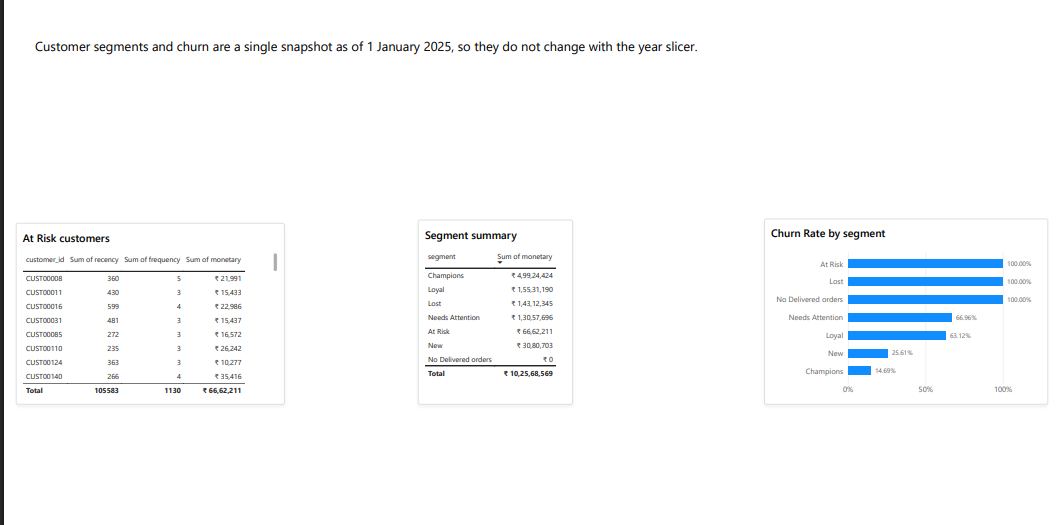

The page's visual inventory and layout, read from the dashboard file:
{"tool":"powerbi","page":{"name":"RFM and Churn","canvas":[1920,1080],"ordinal":2},"visuals":[{"type":"tableEx","title":"Segment summary","fields":{"Values":["rfm_customers.segment","Sum(rfm_customers.monetary)"]},"box":[748,480,288,344],"z":0},{"type":"barChart","title":"Churn Rate by segment","fields":{"Category":["rfm_customers.segment"],"Y":["rfm_customers.Churn_Rate"]},"box":[1392,478,528,346],"z":1000},{"type":"tableEx","title":"At Risk customers","fields":{"Values":["clean customers.customer_id","Sum(rfm_customers.recency)","Sum(rfm_customers.frequency)","Sum(rfm_customers.monetary)"]},"box":[0,486,500,338],"z":2000},{"type":"actionButton","box":[0,0,100,40],"z":3000},{"type":"textbox","box":[36,140,1300,80],"z":4000}]}

Visuals, with their boxes on the page's 1920x1080 design canvas (x1, y1, x2, y2). These are canvas units, not pixel positions in the 1057x525 screenshot, which may show the page scaled, cropped or inside an application window:
"Segment summary" tableEx: bbox=(748, 480, 1036, 824)
"Churn Rate by segment" barChart: bbox=(1392, 478, 1920, 824)
"At Risk customers" tableEx: bbox=(0, 486, 500, 824)
actionButton: bbox=(0, 0, 100, 40)
textbox: bbox=(36, 140, 1336, 220)
